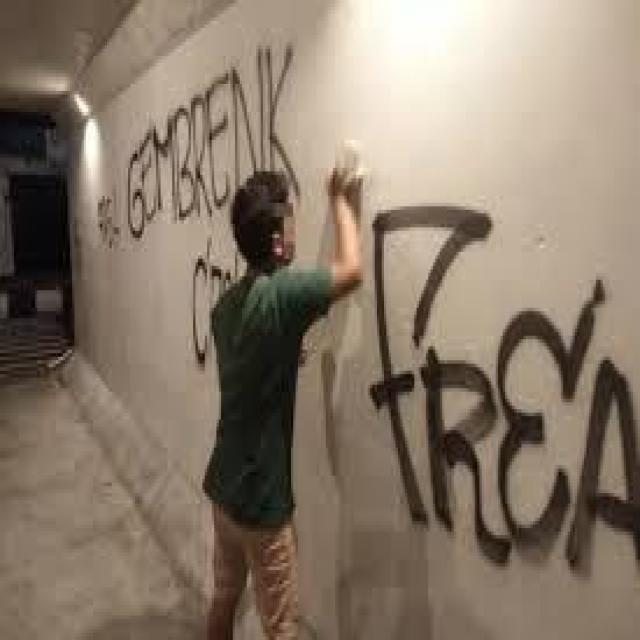nonspitting: (372, 199, 640, 577), (128, 42, 300, 245), (190, 256, 230, 366), (98, 189, 121, 243)
